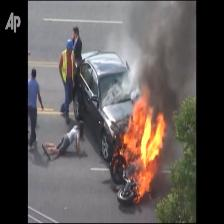fire: (118, 83, 166, 202)
